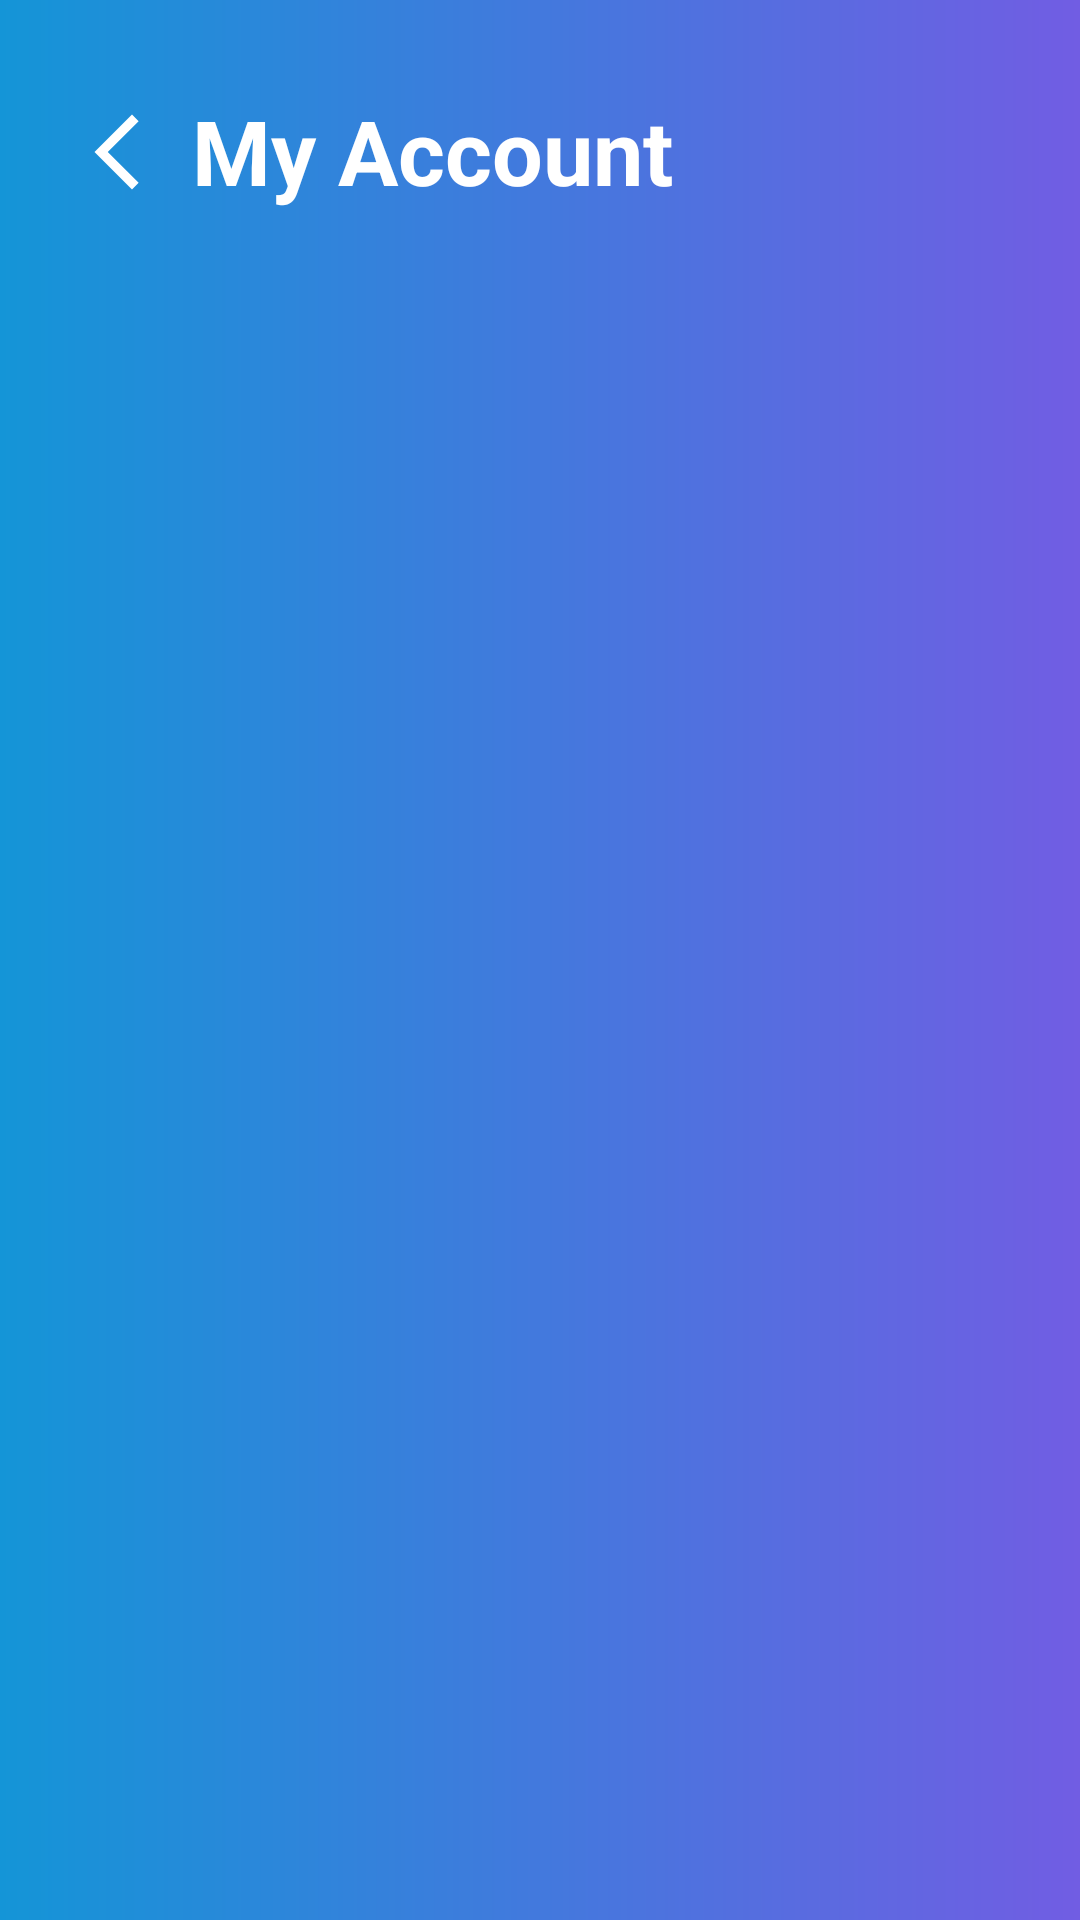

Where to tap for icons on this 1080 × 1920 app screen, as (x,y):
arrow back: (116,152)
